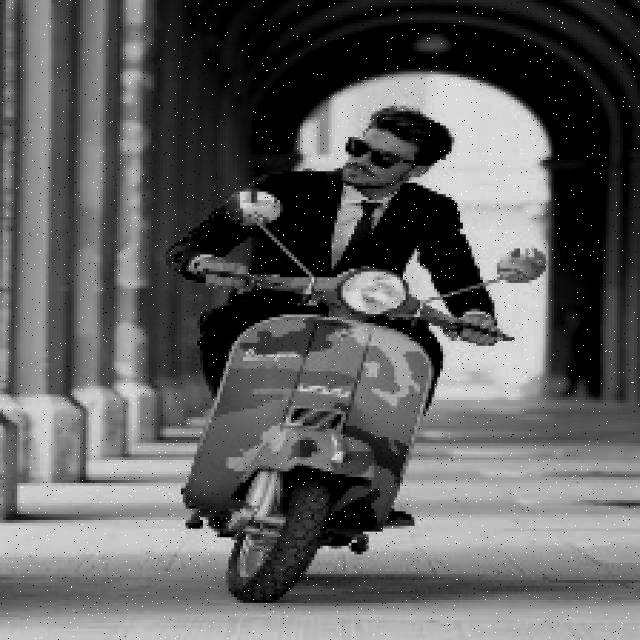Bike: (188, 265, 446, 605)
